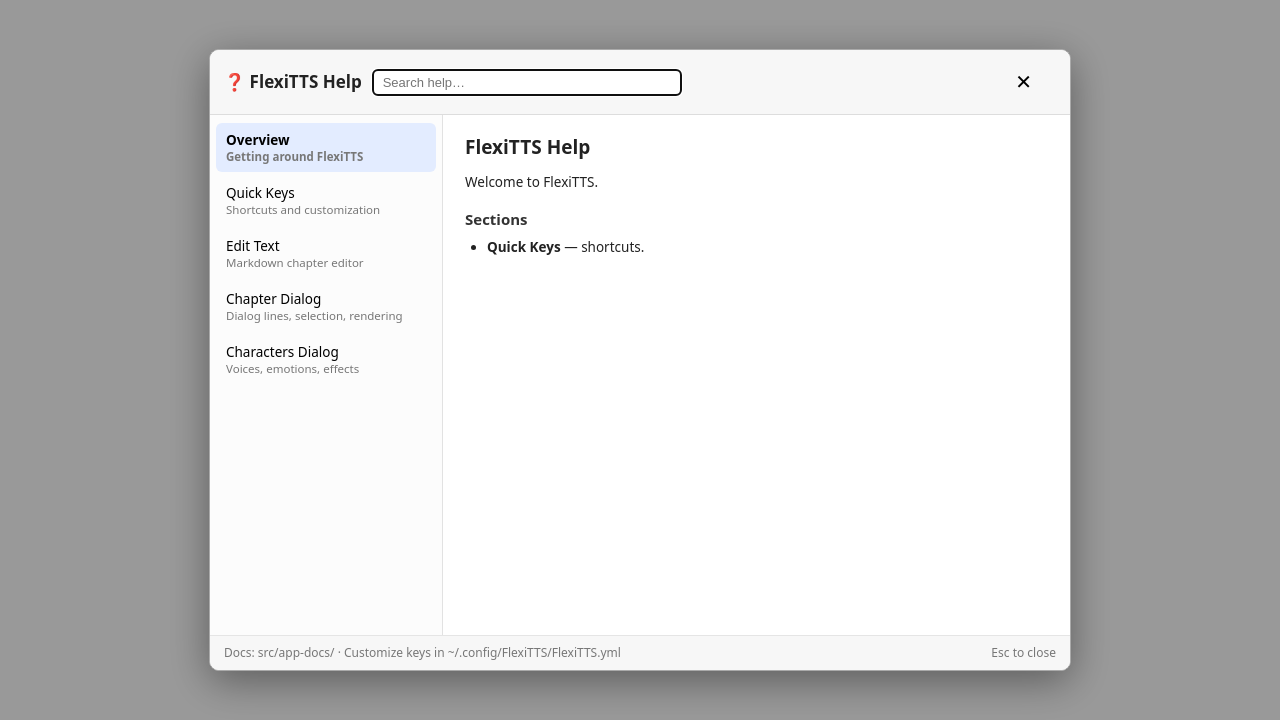
Scenario: HelpDialog (Ctrl+?) › switches subjects on click
This screenshot has width=1280, height=720.
Expected: the element with test id "help-content-index" is shown, [465,134,644,256]
Click the button with test id "help-subject-quick-keys" at coordinates (326, 200), box [216,176,436,225]
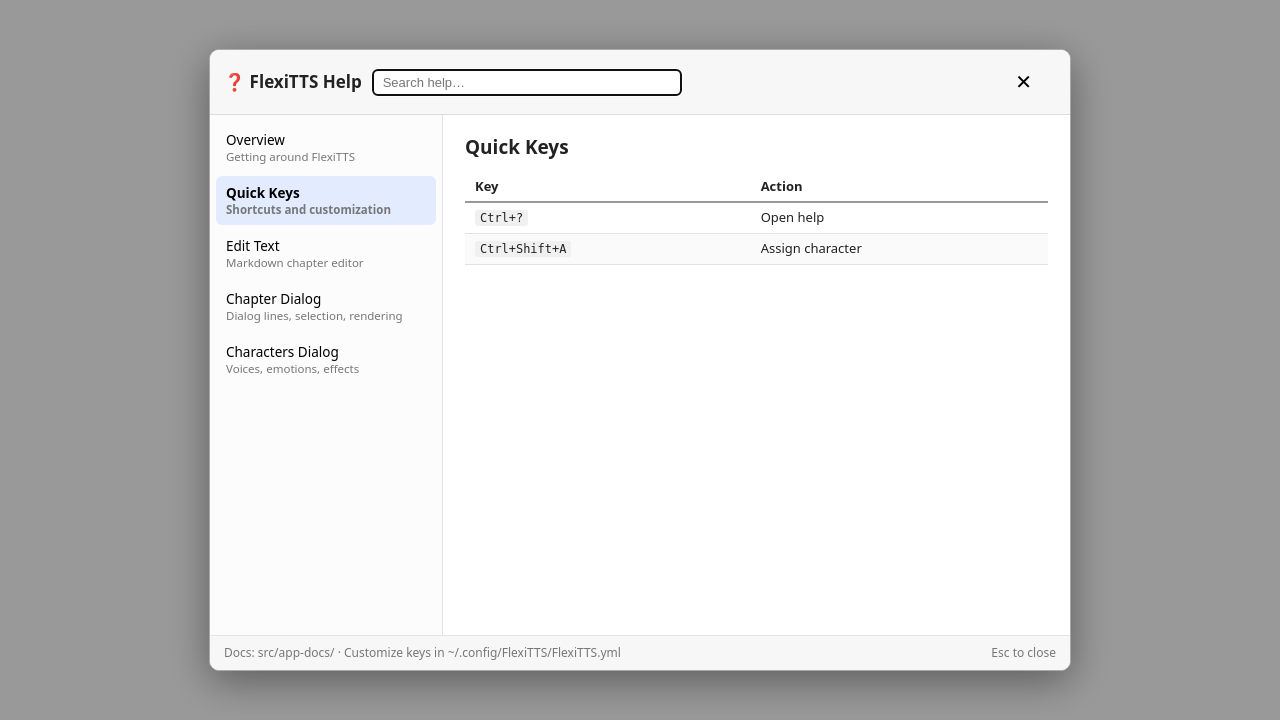
Expected: the element with test id "help-content-quick-keys" is shown, [465,133,1048,265]
Expected: the element with test id "help-details" shows "Assign character", [761,239,862,257]
